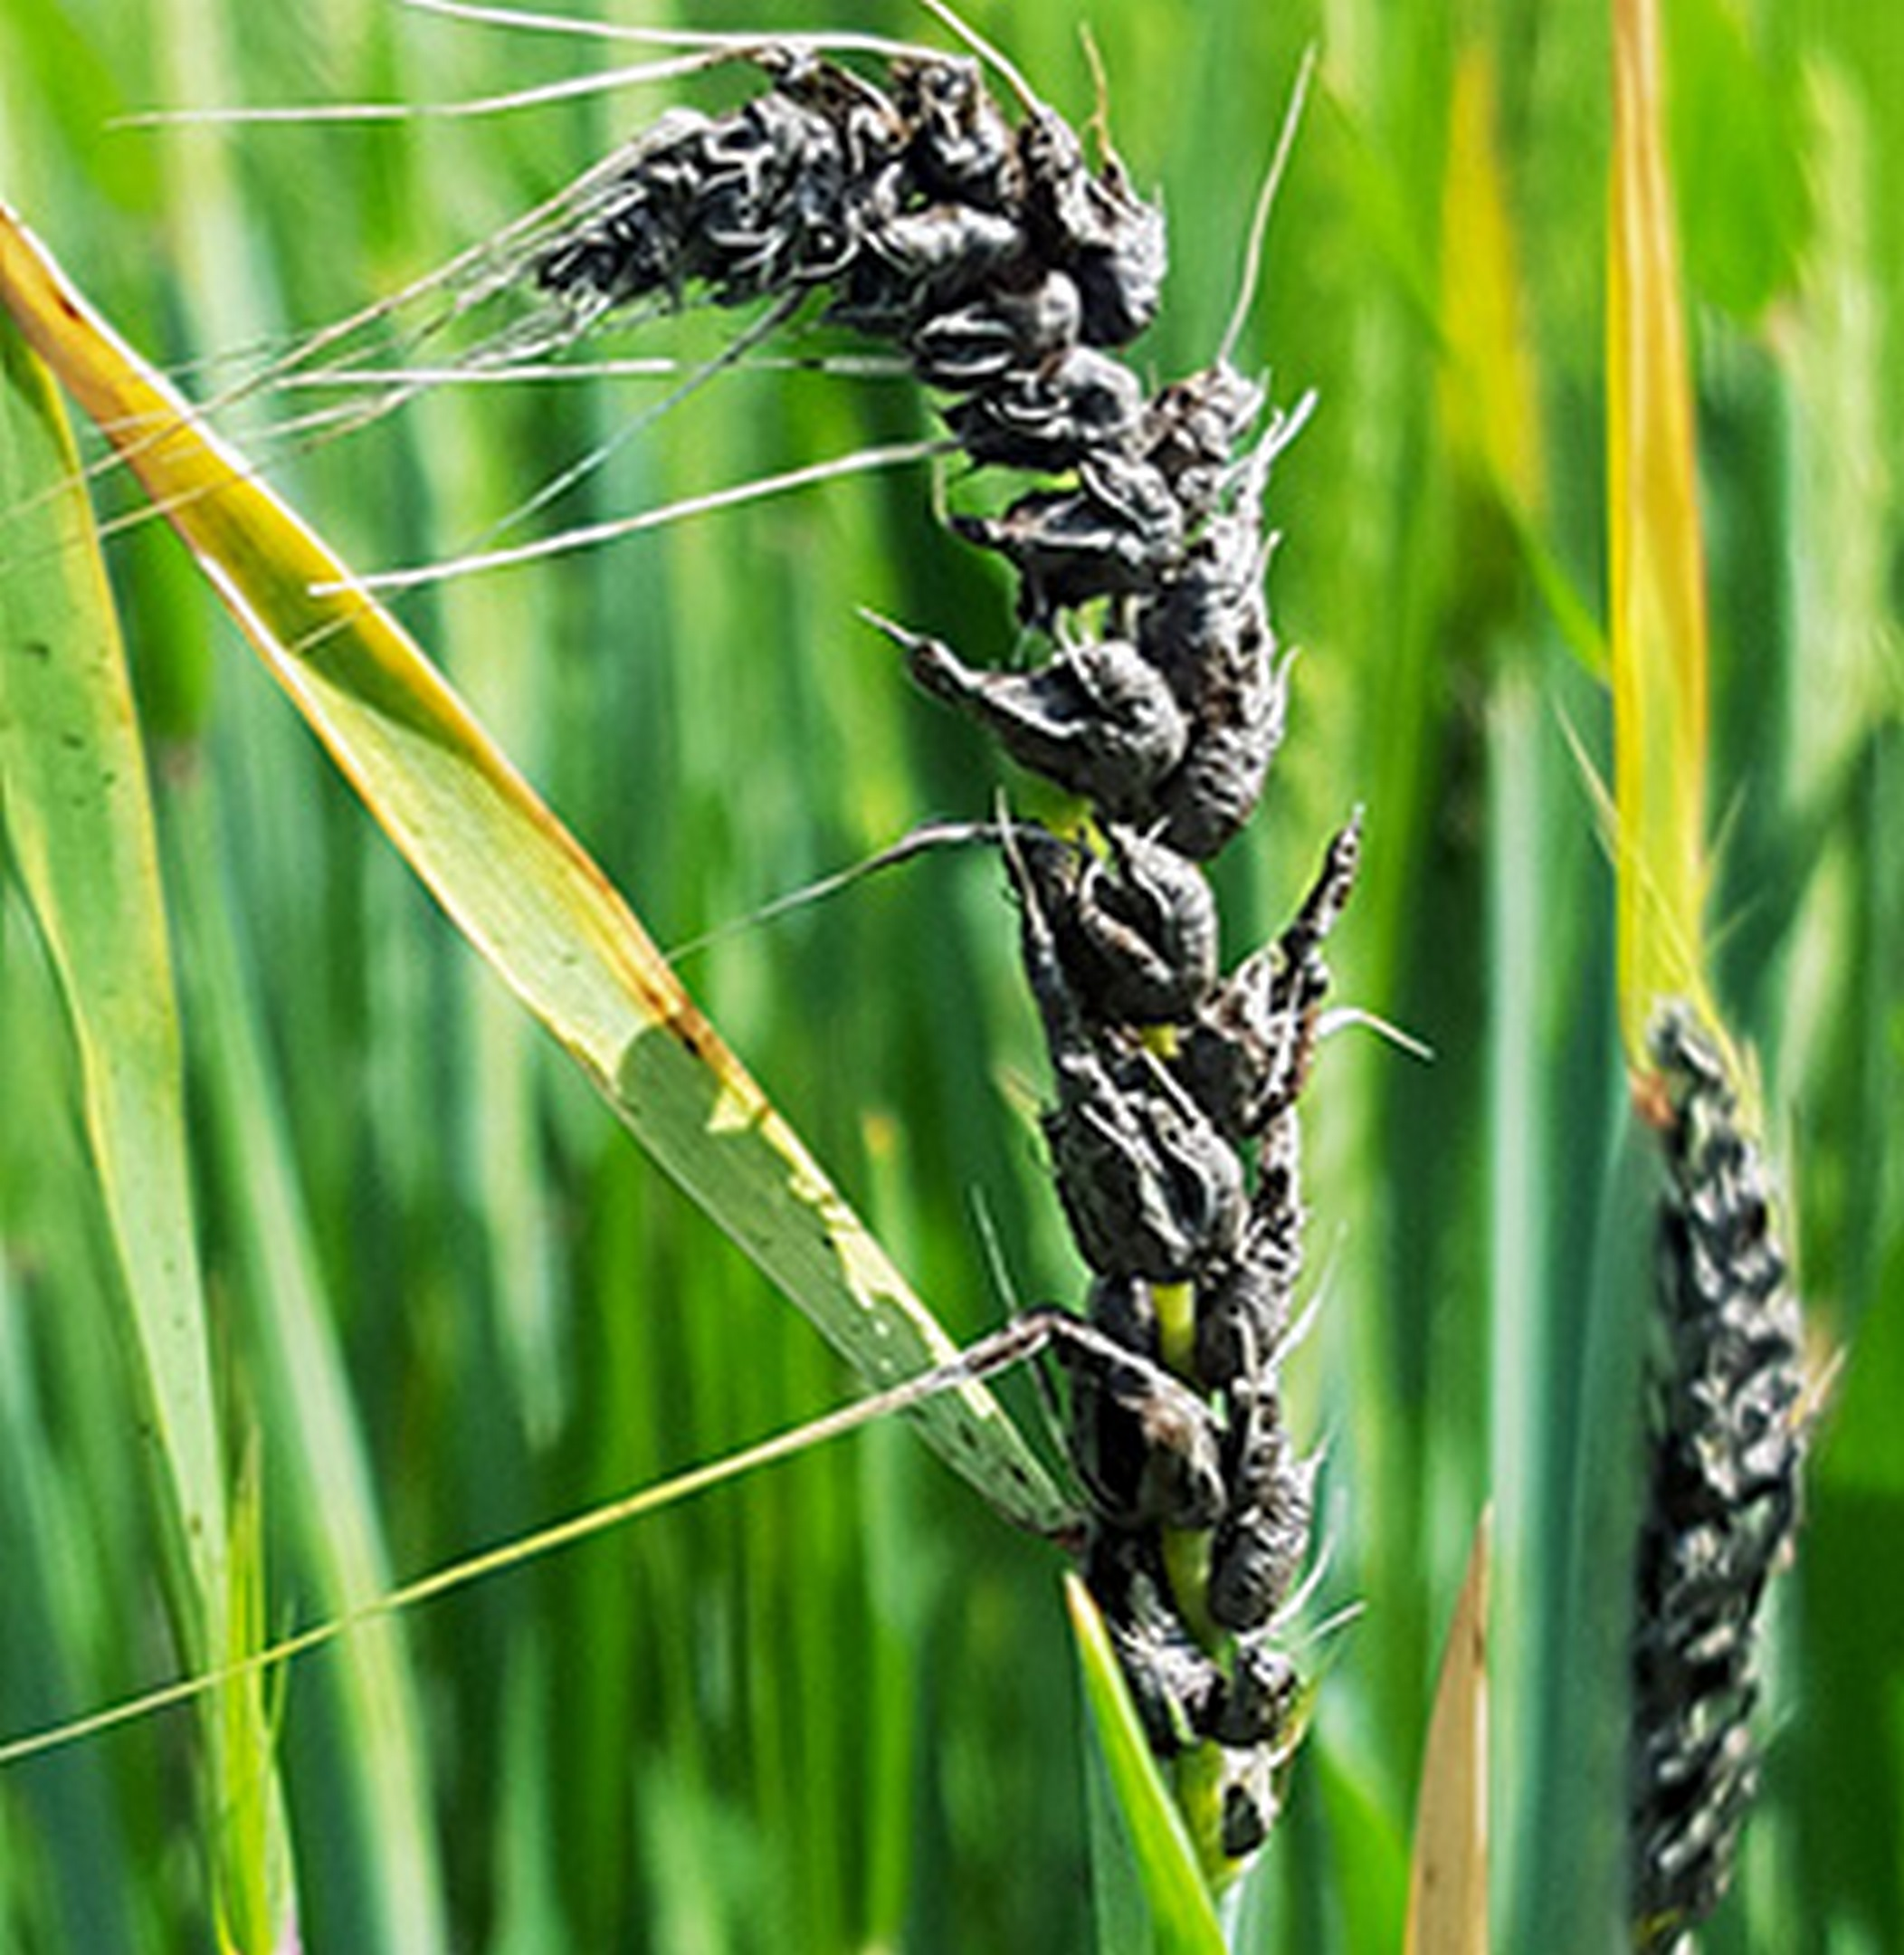Wheat Loose Smut: (518, 28, 1450, 1709)
